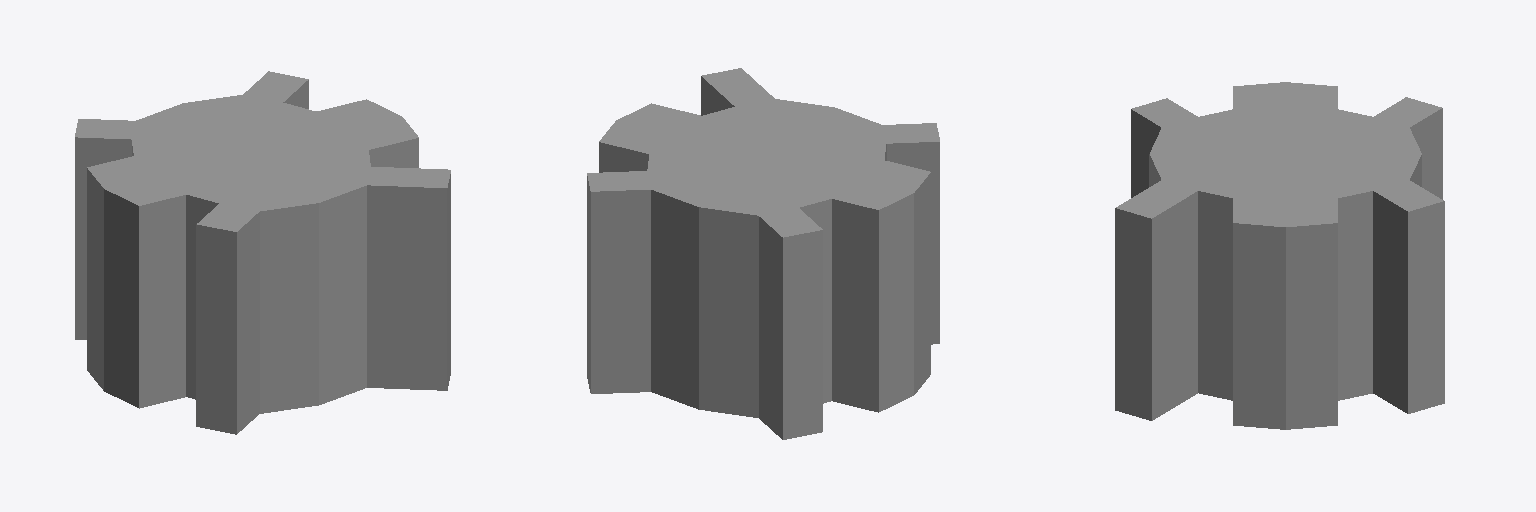
The model's file is torre2.obj.
3 views of the same model, side by side, from view 1: azimuth 30°, elevation 25°; view 2: azimuth 150°, elevation 25°; view 3: azimuth 270°, elevation 25° (orthographic).
Parts seen in each view (by area): view 1: Cube; view 2: Cube; view 3: Cube.
Part boxes in pixels (left/top/right/bottom): Cube: left=75, top=71, right=450, bottom=434; Cube: left=587, top=68, right=939, bottom=439; Cube: left=1115, top=82, right=1444, bottom=429.
Size of the model in its own units: 3.93 by 2.55 by 3.76.